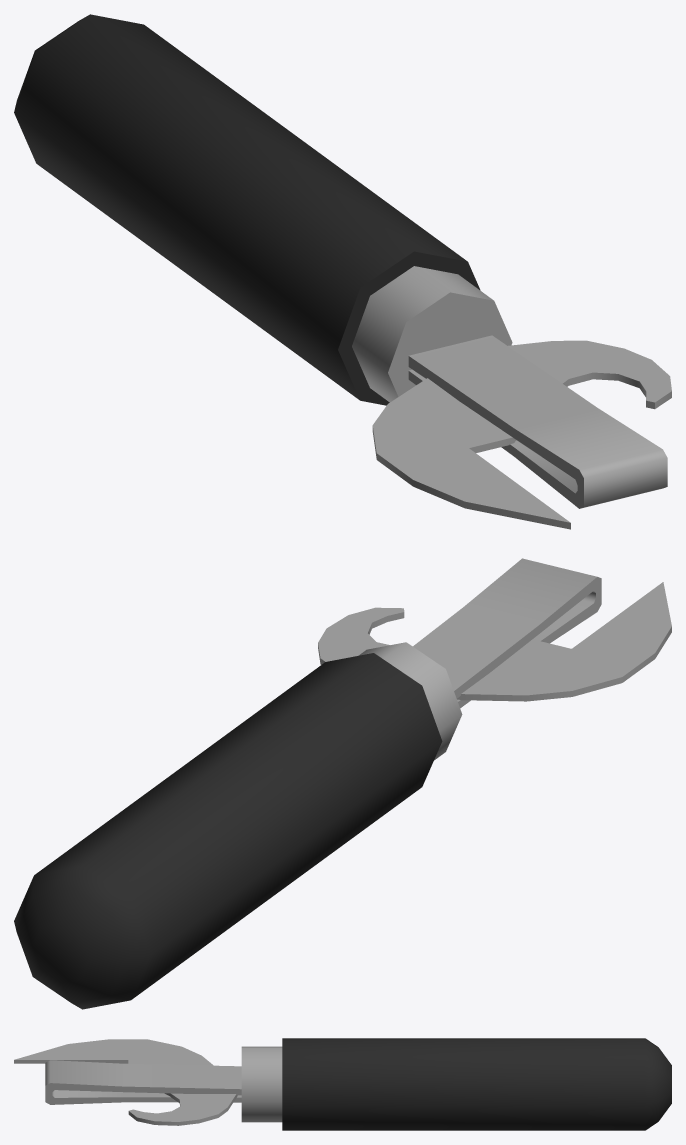
Rendered from TinOpener_01.fbx.
The picture shows the model from 3 angles, top to bottom: view 1: azimuth 30°, elevation 25°; view 2: azimuth 150°, elevation 25°; view 3: azimuth 270°, elevation 25°; orthographic projection. The views are drawn at different scales.
Parts seen in each view (by area): view 1: TinOpener_01; view 2: TinOpener_01; view 3: TinOpener_01.
Boxes of the visible parts, bbox=[...] form: TinOpener_01: bbox=[14, 14, 671, 529]; TinOpener_01: bbox=[14, 558, 671, 1009]; TinOpener_01: bbox=[14, 1038, 671, 1130].
Size of the model in its own units: 0.0412 by 0.0208 by 0.1386.
